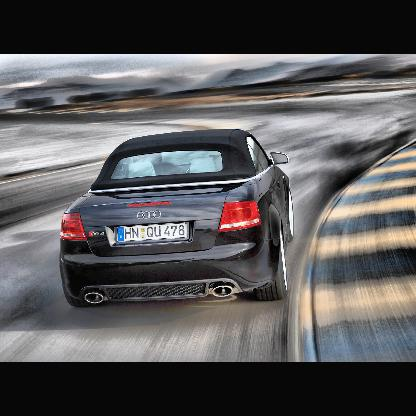Audi RS 4 Convertible 2008: (59, 128, 304, 310)
